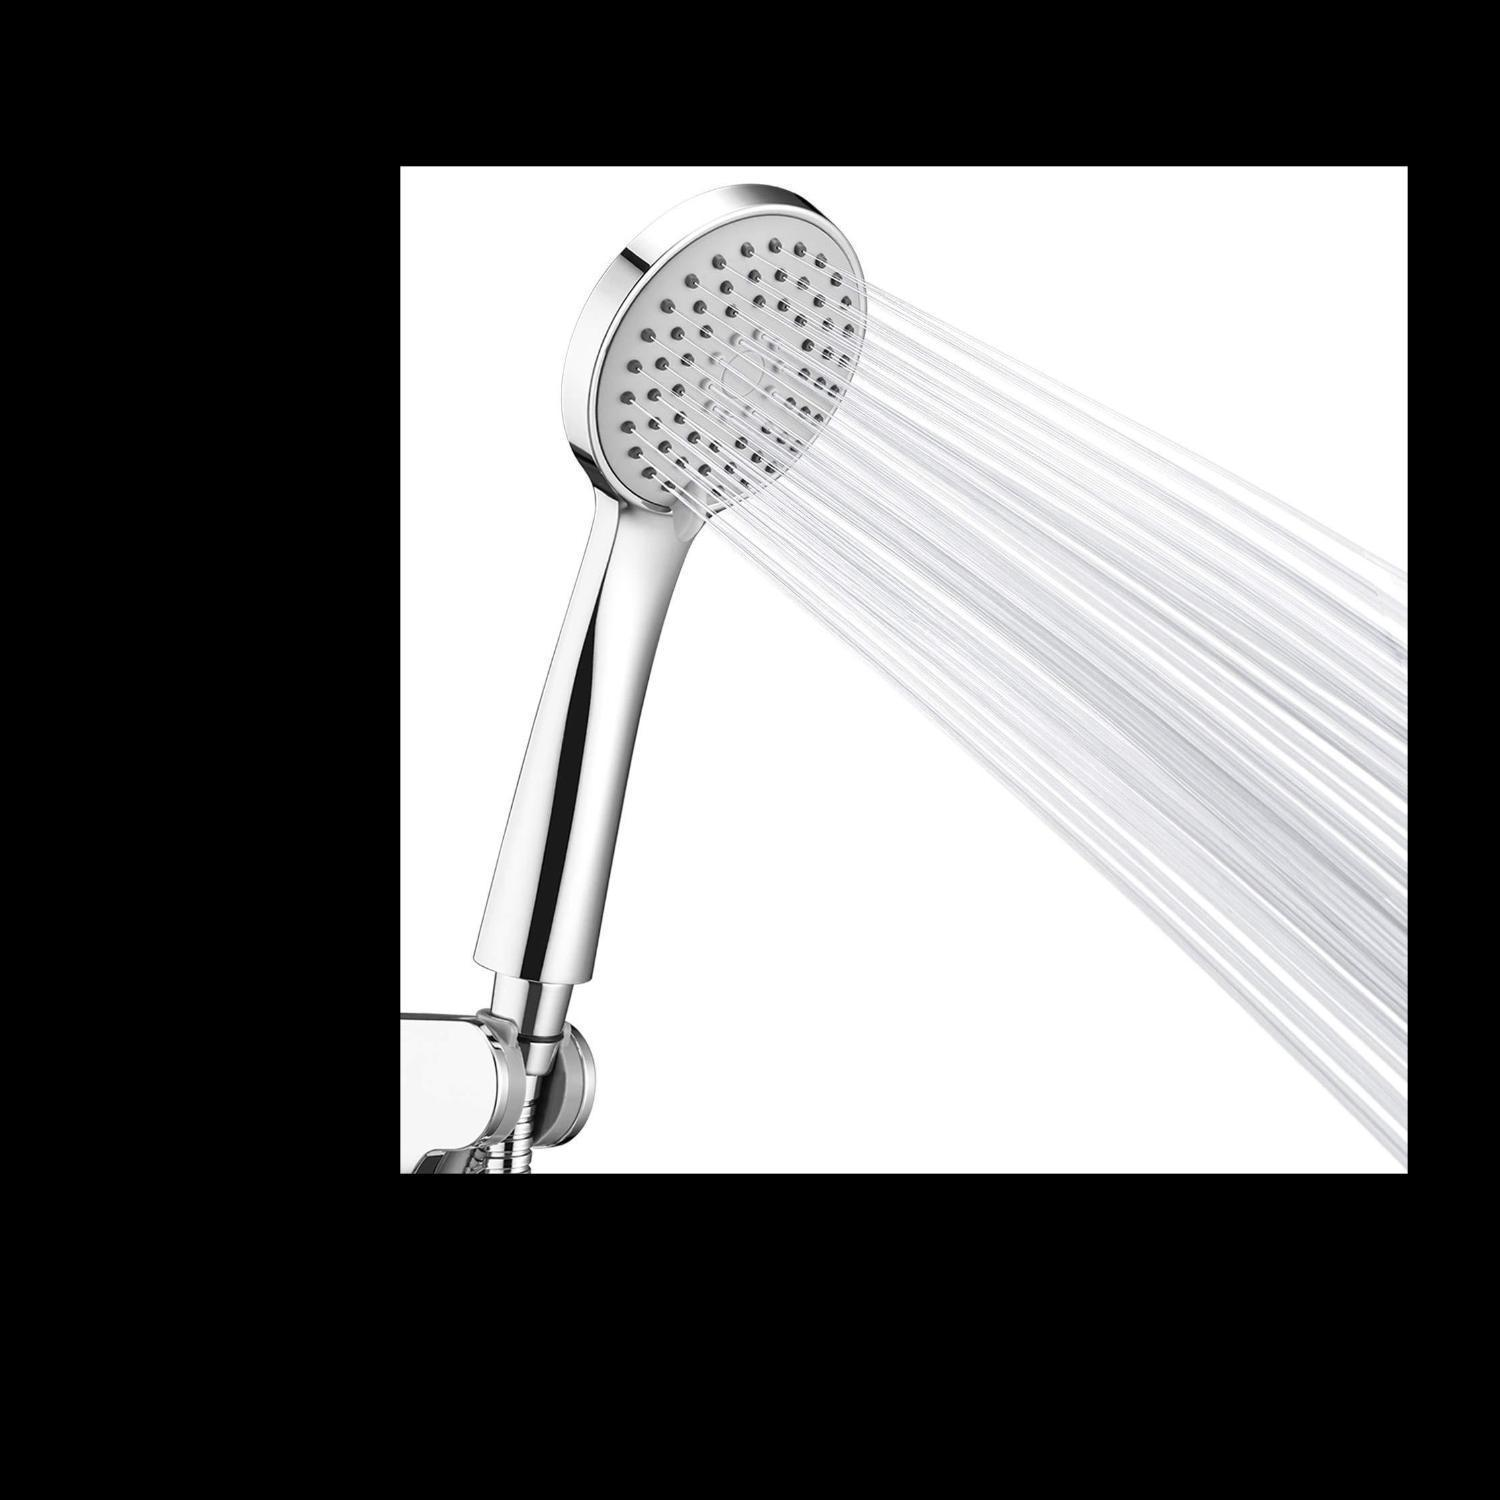Ducha: (400, 166, 1407, 1173)
